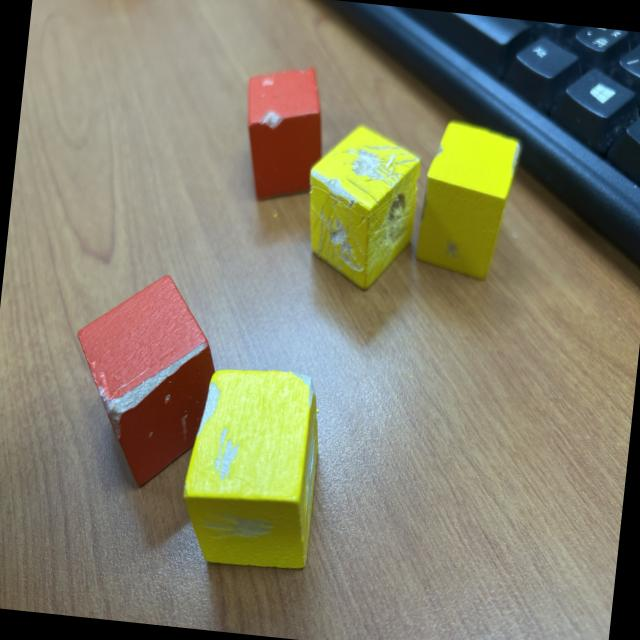broken: (62, 265, 225, 494), (175, 359, 328, 573), (296, 118, 424, 294), (414, 117, 524, 284), (234, 59, 330, 208)
